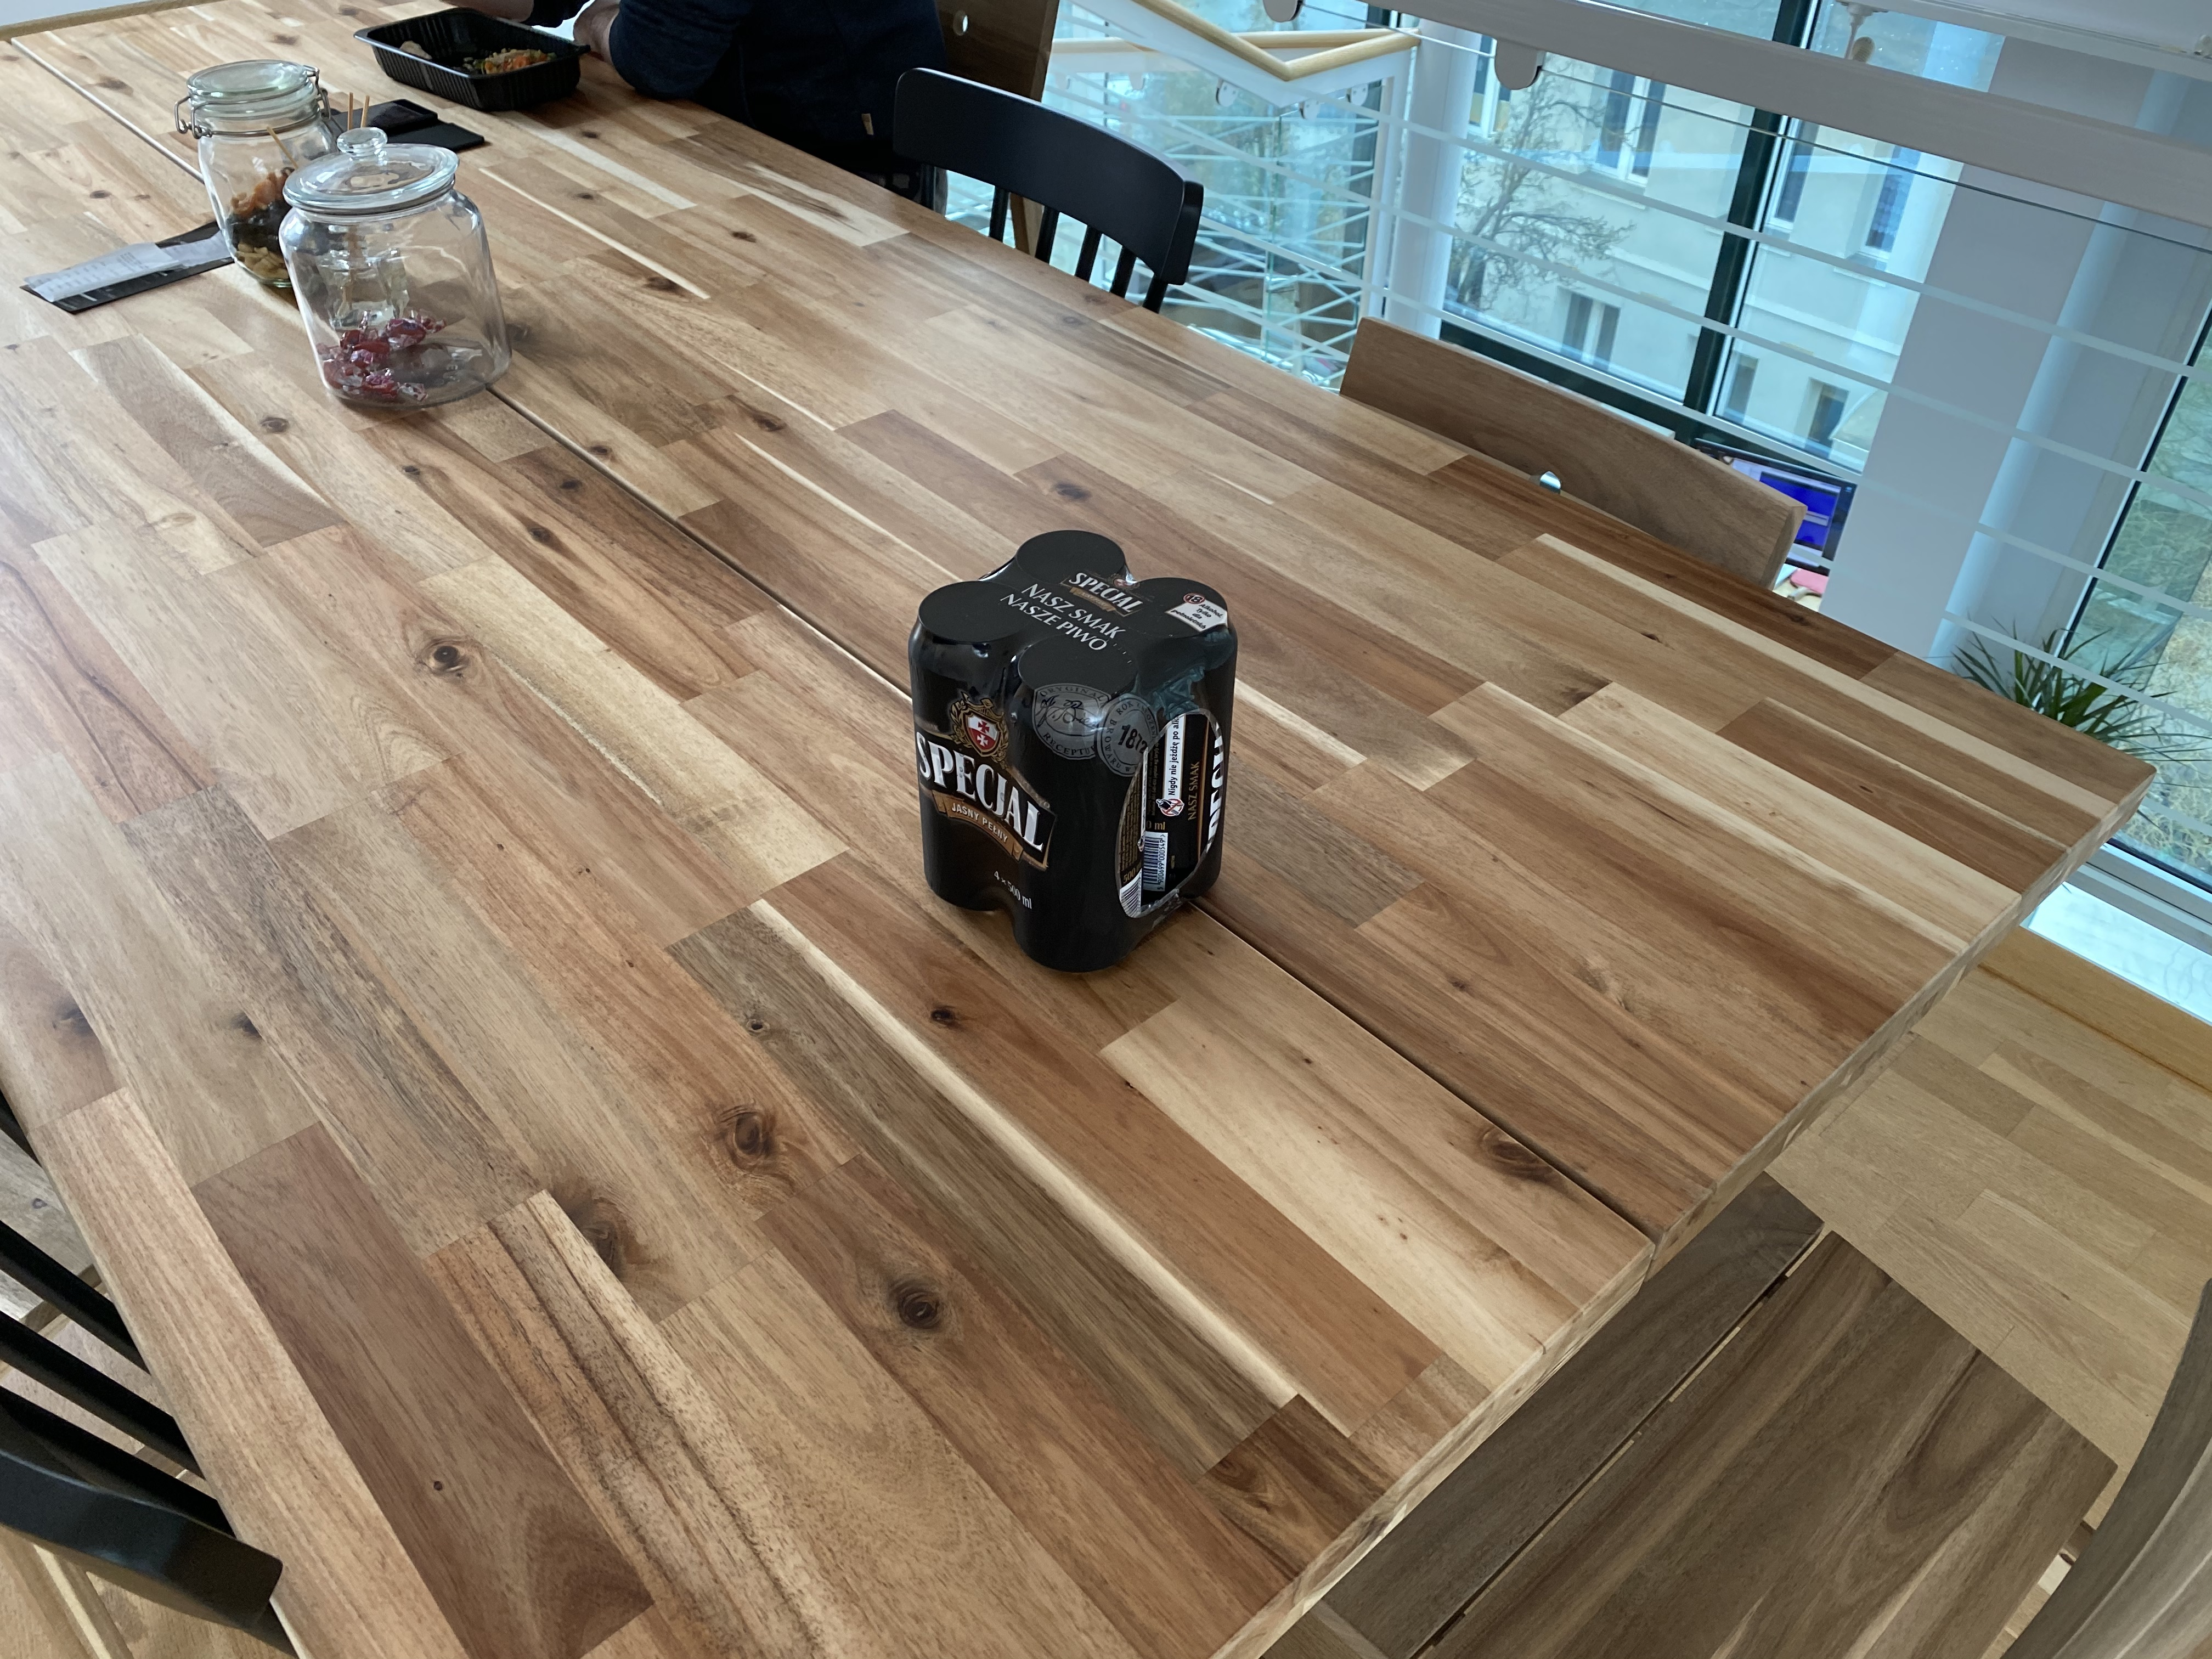specjal: (907, 530, 1240, 979)
